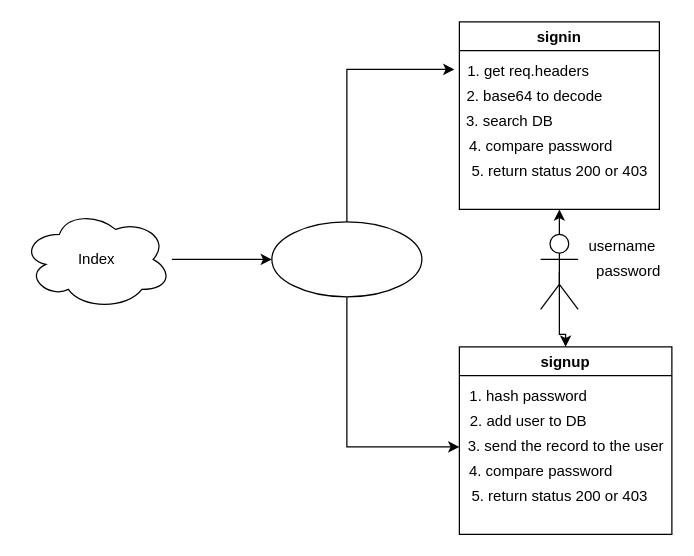
Image size: 694x556. Some labels were removed from this diagram. The shapes that lost their labels are listed below. From the top down, each one's centre as x and y in pixels, then its label:
At point (346, 259): "Server".
At point (558, 271): "User".
